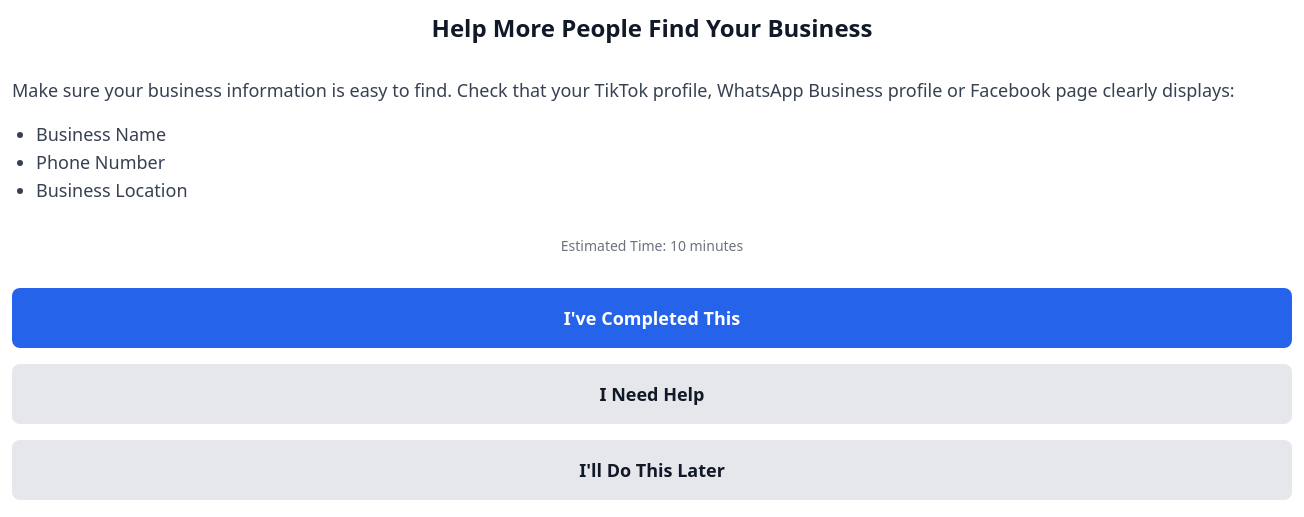
Test case: DailyRecommendation › saves a completed status and shows the completed confirmation
Click the button "I've Completed This" at x=652, y=318, box [12,288,1292,348]
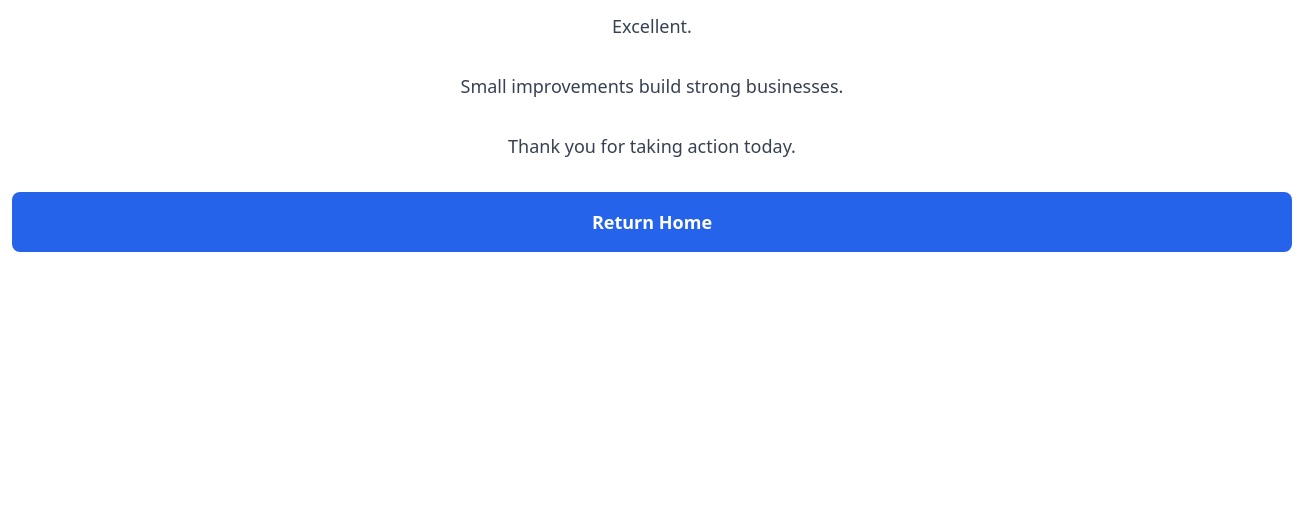
expect the text "Excellent." is shown: met, box [612,14,692,38]
expect the text "Thank you for taking action today." is shown: met, box [508,134,796,158]
